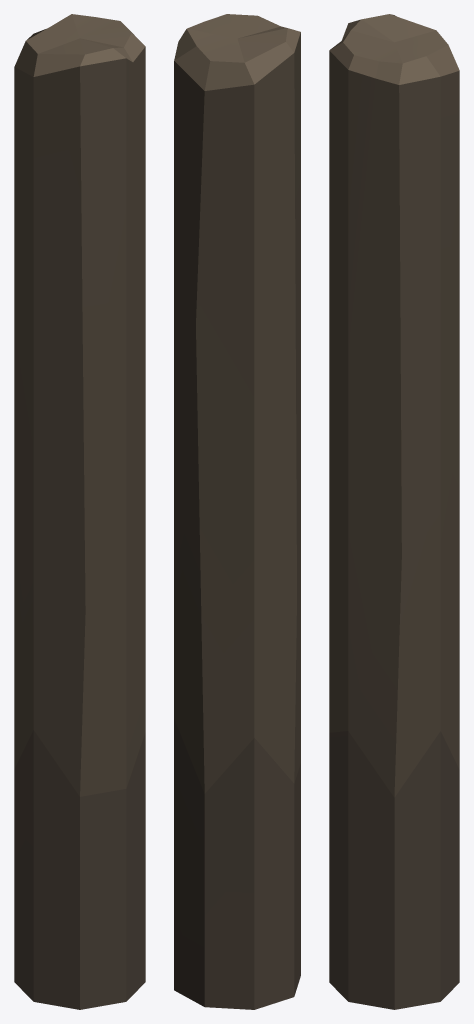
File: fencepost.glb
The picture shows the model from 3 angles, left to right: view 1: azimuth 90°, elevation 25°; view 2: azimuth 150°, elevation 25°; view 3: azimuth 270°, elevation 25°; orthographic projection.
Parts seen in each view (by area): view 1: SM_Prop_Fence_Wood_Round_Pole_01__42_; view 2: SM_Prop_Fence_Wood_Round_Pole_01__42_; view 3: SM_Prop_Fence_Wood_Round_Pole_01__42_.
Boxes of the visible parts, x1,y1,x2,y2 form: SM_Prop_Fence_Wood_Round_Pole_01__42_: (14, 14, 145, 1009); SM_Prop_Fence_Wood_Round_Pole_01__42_: (174, 14, 300, 1009); SM_Prop_Fence_Wood_Round_Pole_01__42_: (329, 14, 459, 1009).
Size of what is drawn, in the model's own units: 0.2031 by 1.62 by 0.2031.
Materials: 1 (1 with a texture image).
